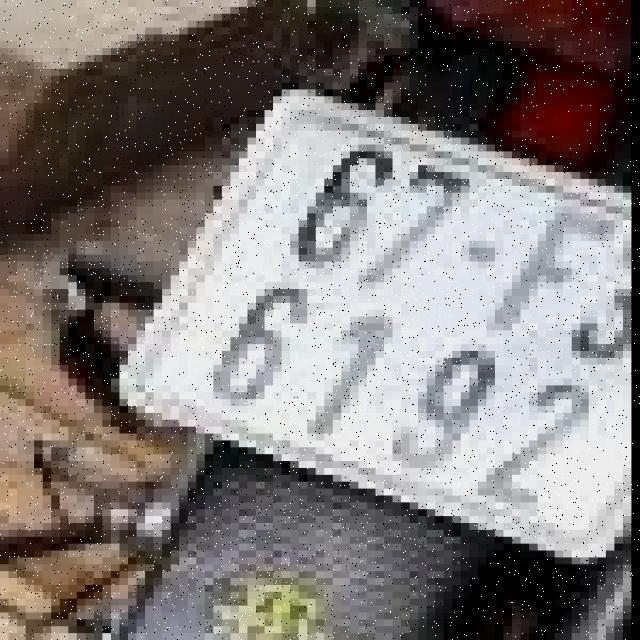1: (280, 298, 427, 462)
2: (473, 365, 616, 524)
6: (249, 117, 409, 285), (186, 260, 345, 423)
7: (333, 142, 503, 318)
9: (369, 331, 530, 489)
F: (466, 186, 626, 361)
